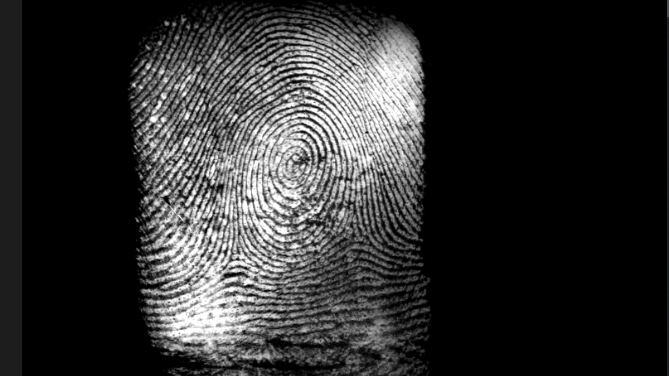nucelo: (275, 143, 310, 185)
verticilo: (219, 231, 256, 262), (342, 217, 371, 247)
